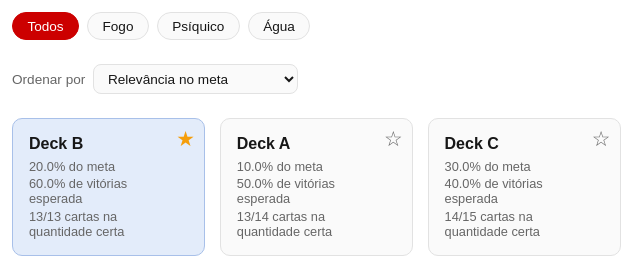
Test case: DecksList › clicking the active chip again clears the filter
Click the button "Água" at [279, 26], box 248,12 -> 310,40
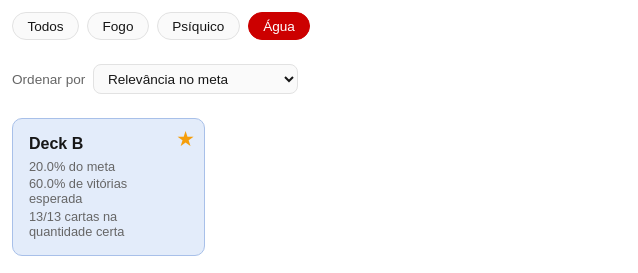
Click the button "Água" at [279, 26], box 248,12 -> 310,40
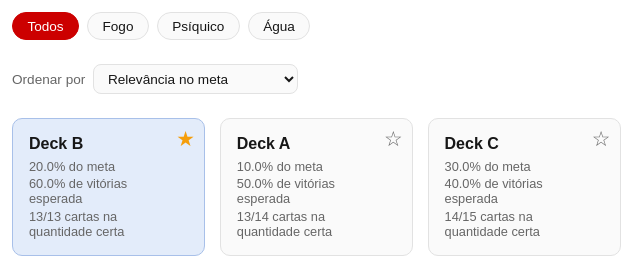
Check: the text "Deck A" is shown, box 237,135 -> 290,152
Check: the text "Deck C" is shown, box 444,135 -> 499,152
